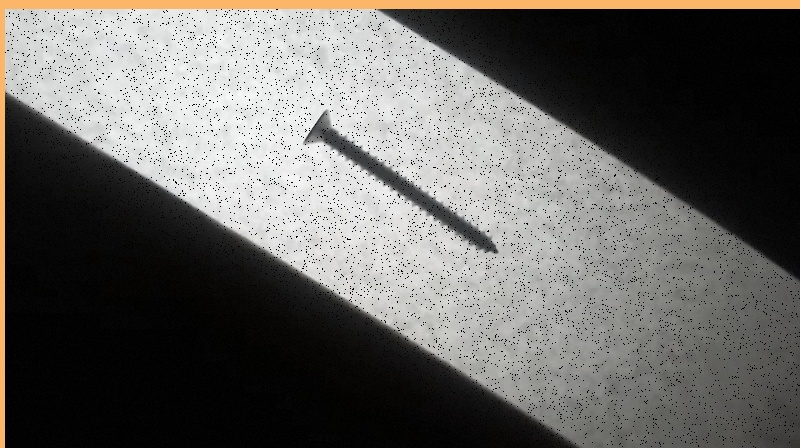S002: (297, 105, 500, 254)
